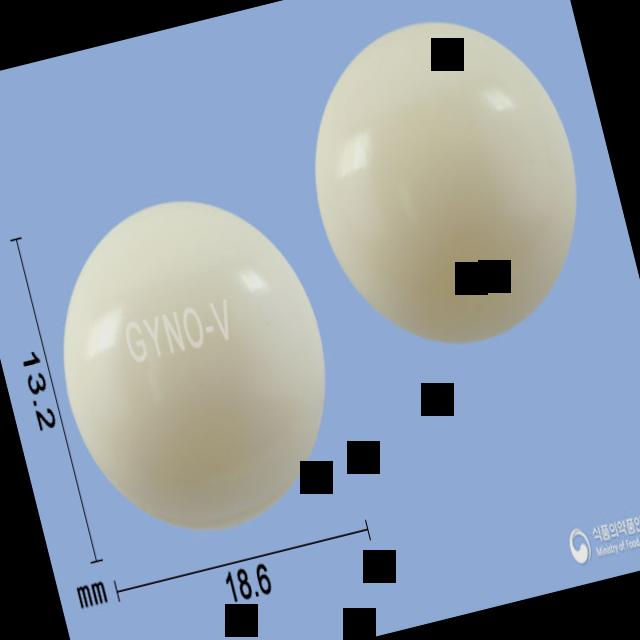Gyno-V Vaginal Soft Cap: (26, 167, 362, 556)
